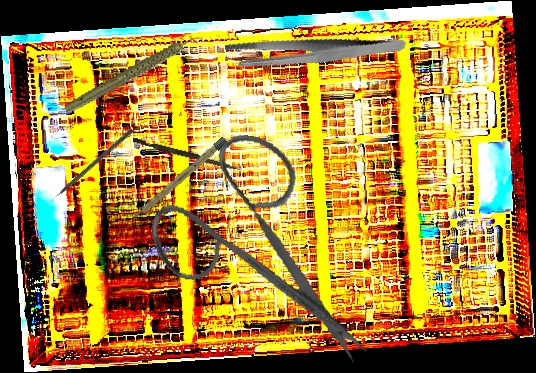Dressing Forceps: (220, 3, 408, 100)
Handpiece: (56, 34, 213, 115)
Iris Scissors: (135, 122, 401, 366)
Pusher: (44, 127, 134, 207), (131, 137, 244, 172)
Scalpel Handle: (129, 136, 228, 224)
